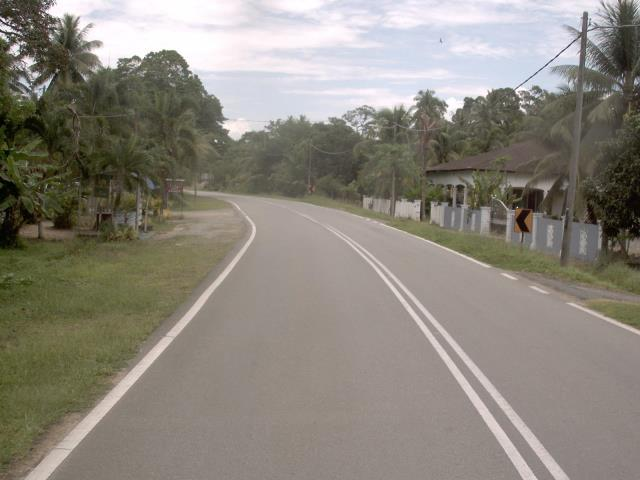traffic_sign: (508, 202, 536, 241)
